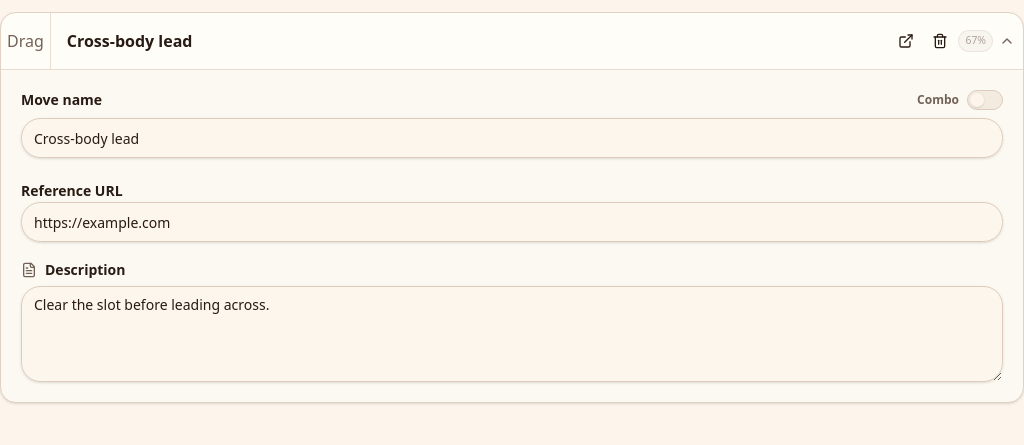
MoveCard › accepts protocol-less reference URLs and reports malformed URLs while expanded
The image size is (1024, 445).
Replace the text in the field labelled "Move name" with "Inside turn" at (512, 138), box [21,118,1003,158]
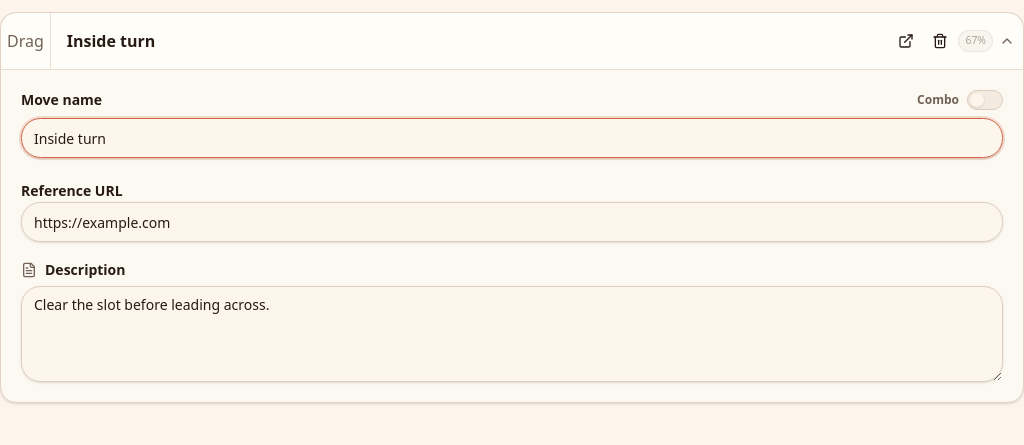
Replace the text in the field labelled "Reference URL" with "youtube.com/watch" at (512, 222), box [21,202,1003,242]
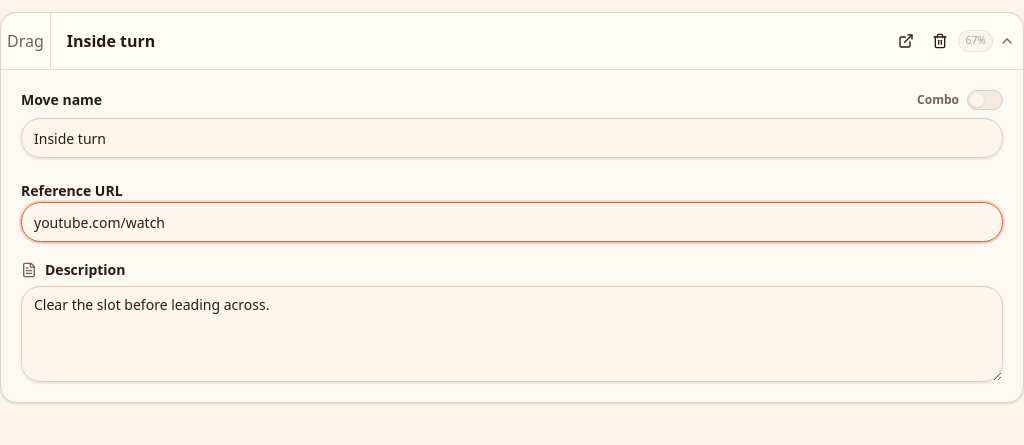
Expected: the text "enter a url like" is not shown
Replace the text in the field labelled "Reference URL" with "https://" at (512, 222), box [21,202,1003,242]
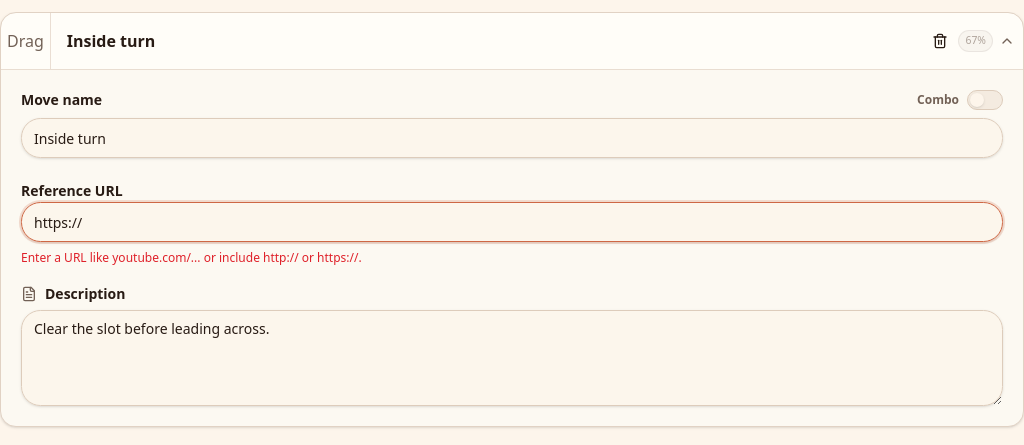
Now the text "Enter a URL like" is shown, box [21,249,362,266]
